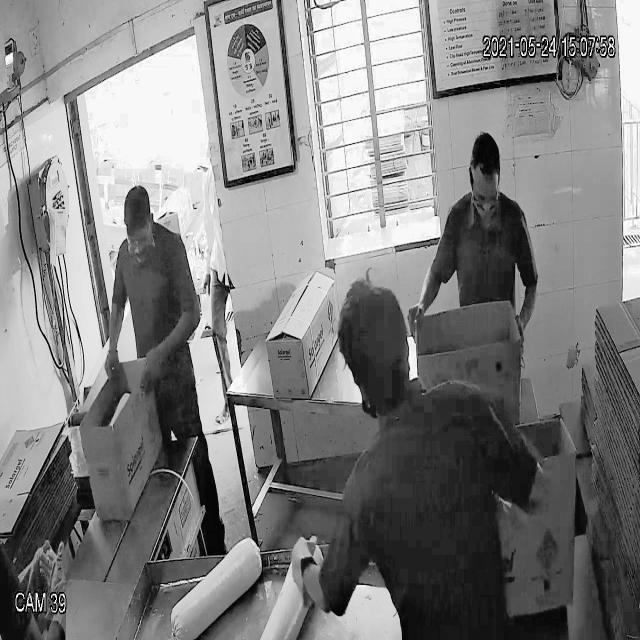glasses: (124, 226, 150, 252)
